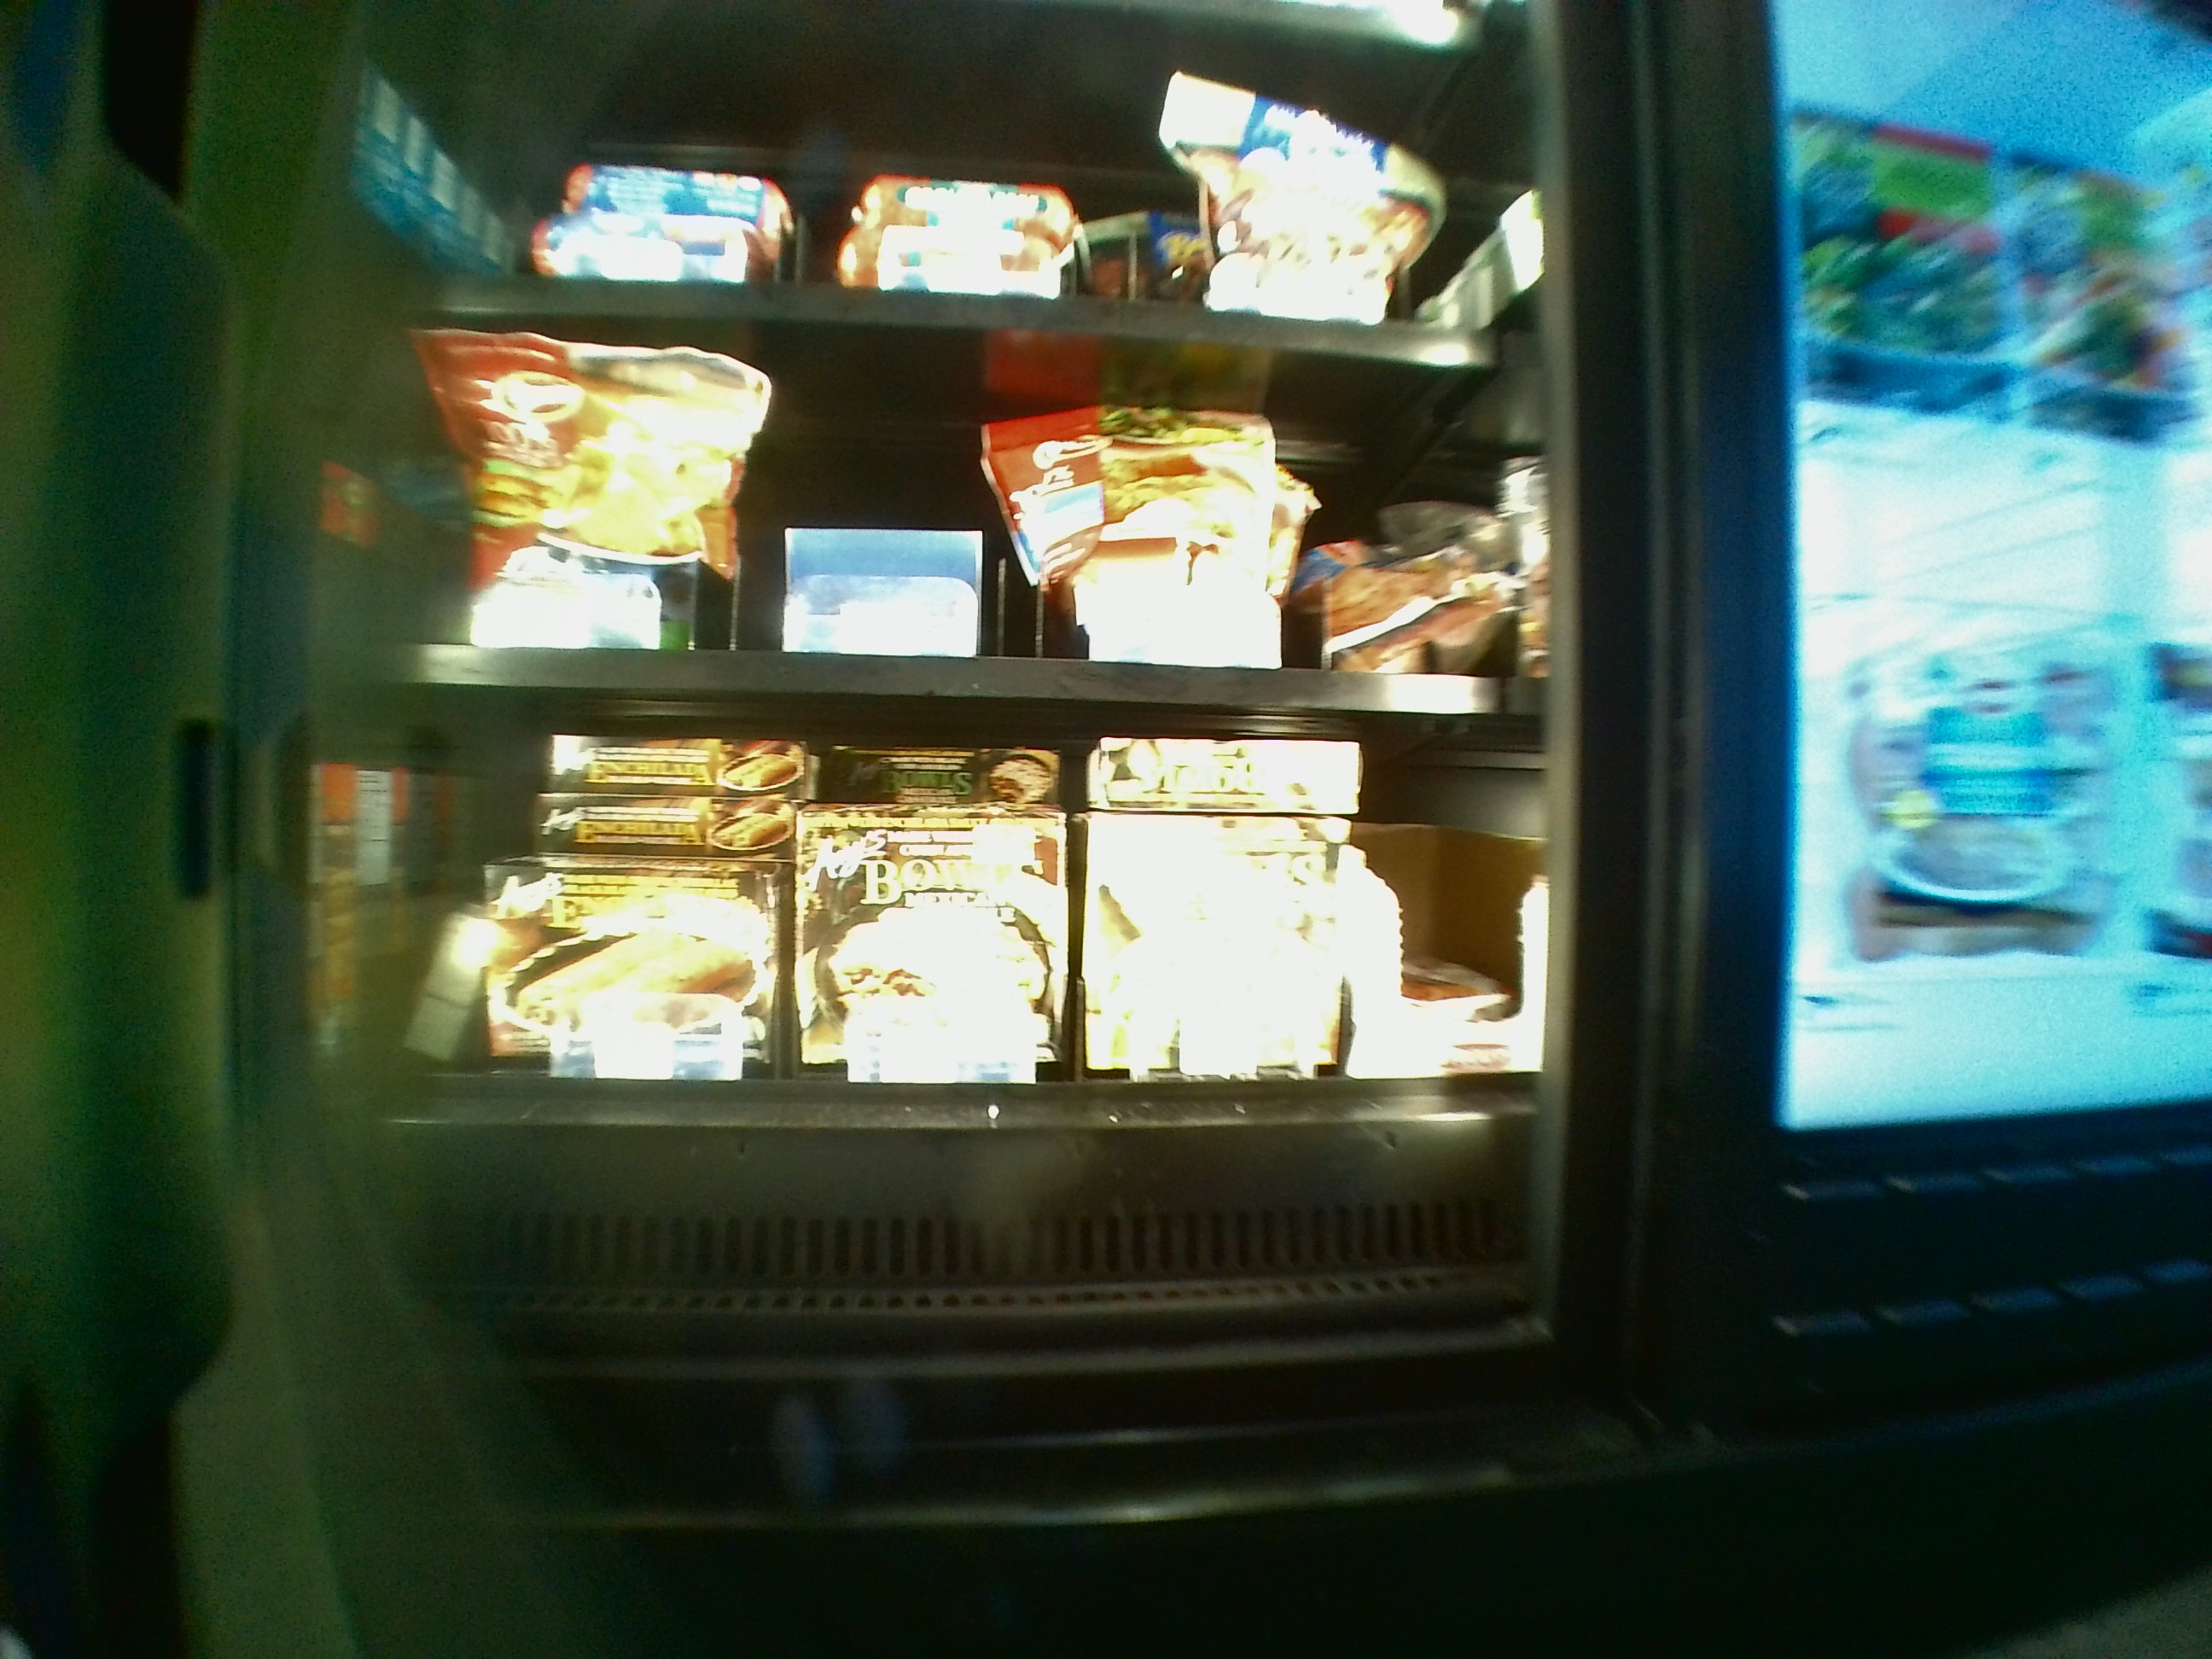shelf: (329, 739, 1533, 1319), (319, 307, 1531, 721)
